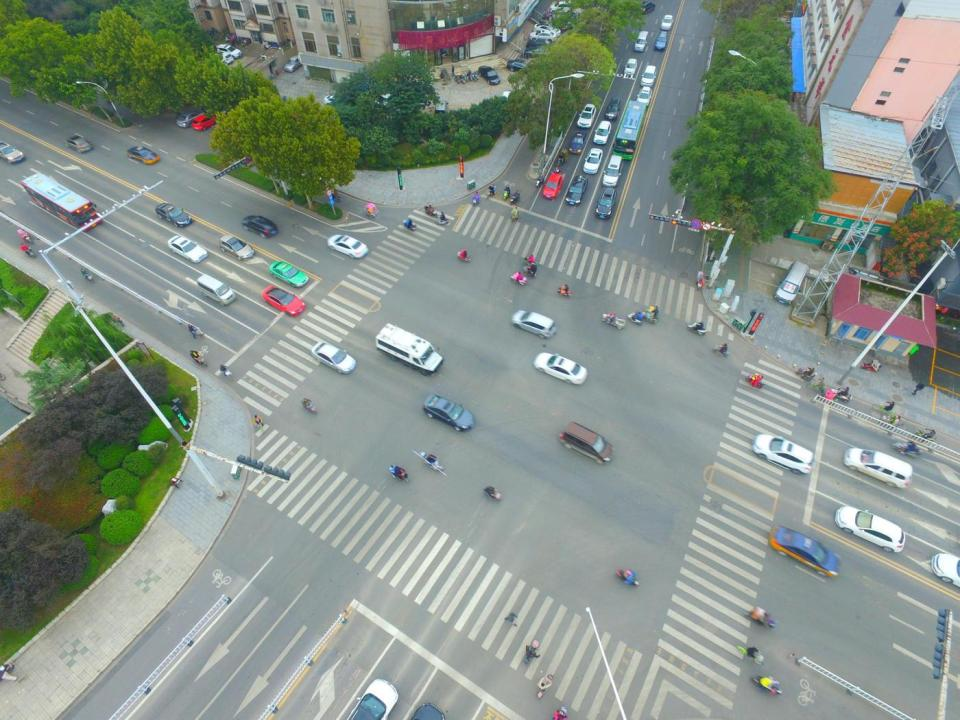bus: (16, 172, 103, 230), (612, 99, 647, 161)
car: (762, 523, 842, 578), (835, 504, 908, 551), (749, 432, 815, 476), (347, 672, 397, 720), (420, 396, 476, 434), (309, 339, 359, 376), (534, 354, 590, 387), (259, 282, 308, 317), (511, 308, 557, 344), (266, 257, 309, 288), (164, 234, 207, 264), (155, 200, 193, 229), (241, 212, 277, 240), (328, 233, 369, 257), (220, 234, 255, 260), (600, 154, 624, 188), (123, 144, 159, 165), (593, 186, 615, 219), (565, 175, 588, 206), (64, 133, 94, 155), (542, 172, 564, 200), (373, 88, 398, 112), (593, 118, 612, 145), (2, 138, 23, 162), (496, 90, 524, 108), (584, 147, 602, 175), (576, 103, 596, 128), (568, 130, 588, 155), (506, 59, 539, 74), (200, 95, 226, 114), (478, 64, 501, 85), (528, 39, 560, 54), (176, 111, 204, 127), (324, 91, 352, 107), (192, 113, 218, 130), (206, 47, 232, 64), (605, 96, 623, 120), (528, 30, 558, 44), (641, 63, 657, 89), (433, 100, 450, 124), (521, 47, 554, 59), (283, 56, 307, 72), (534, 22, 561, 36), (636, 86, 652, 107), (638, 0, 657, 16), (654, 31, 669, 49), (624, 57, 636, 78), (661, 14, 674, 30)
van: (374, 322, 445, 375), (844, 442, 915, 490), (562, 420, 615, 464), (775, 261, 810, 307), (193, 274, 237, 306), (632, 30, 651, 55), (548, 1, 580, 15), (218, 44, 242, 58)
